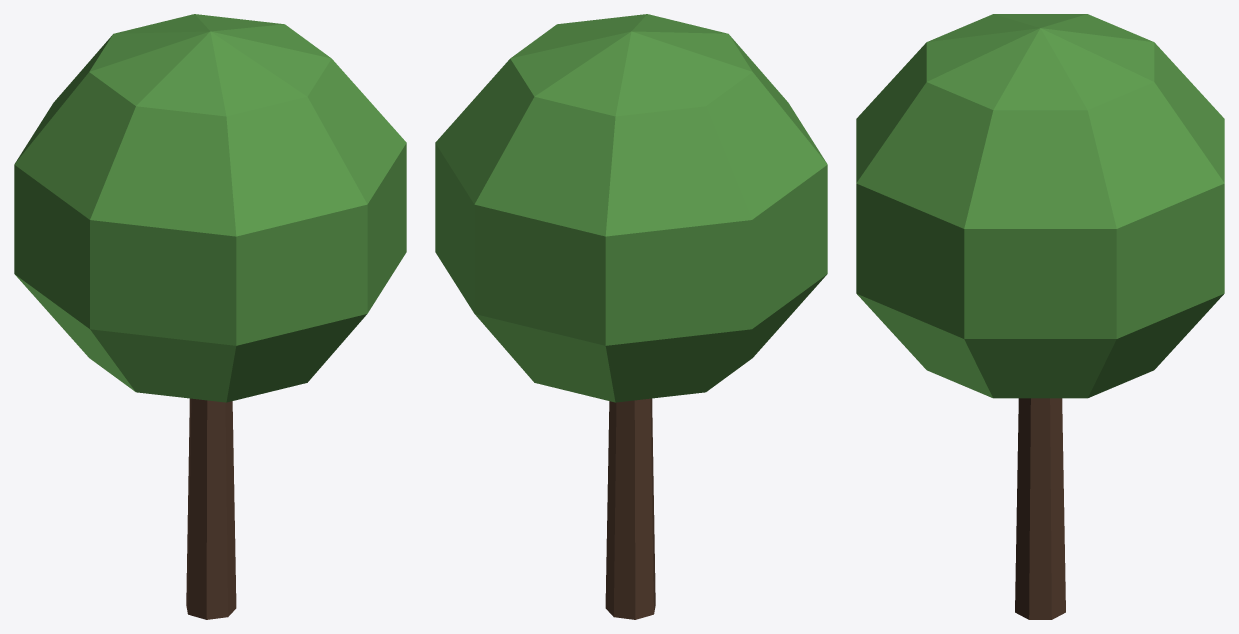
The model's file is tree_small_round.glb.
3 renders of one model, left to right at view 1: azimuth 30°, elevation 25°; view 2: azimuth 150°, elevation 25°; view 3: azimuth 270°, elevation 25°, orthographic.
Visible parts, largest first — view 1: tree_small_round; view 2: tree_small_round; view 3: tree_small_round.
Boxes of the visible parts, <box> form: tree_small_round: <box>14,14,406,619</box>; tree_small_round: <box>435,14,827,619</box>; tree_small_round: <box>856,14,1224,619</box>.
Bounding box in the file's own units: 1.41 × 2.45 × 1.41.
